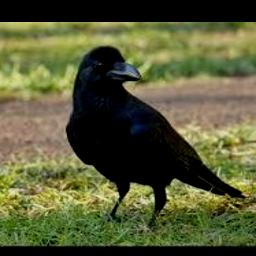Crow: (67, 45, 245, 229)
